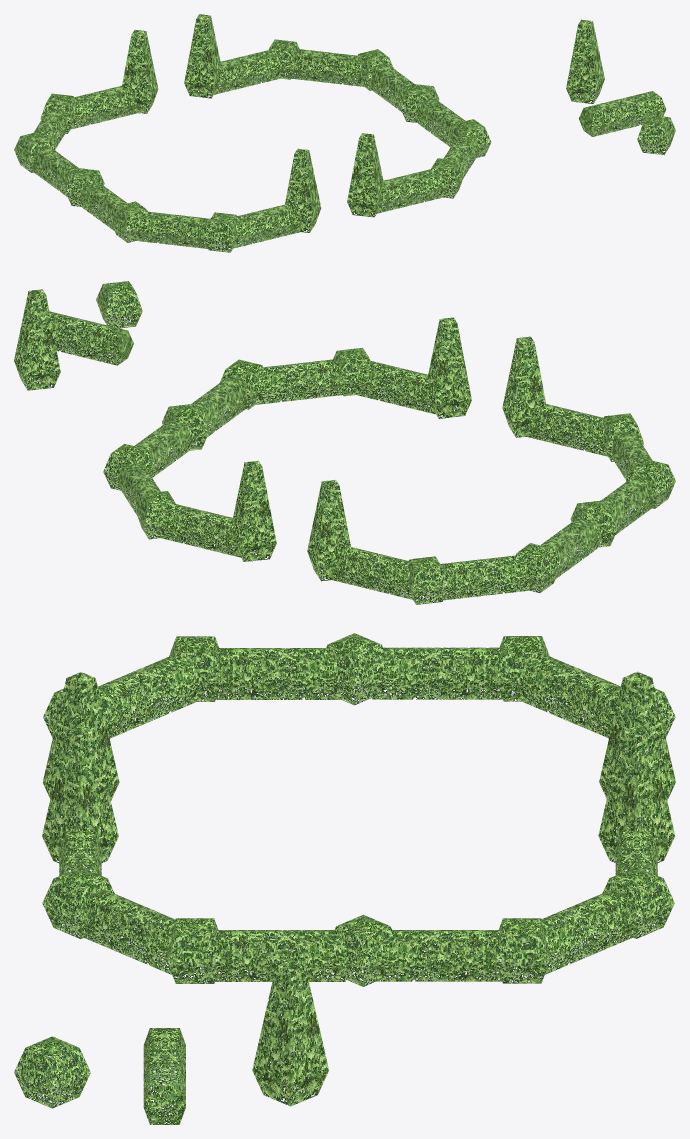
The model's file is psx_style_hedge_components_old.glb.
3 renders of one model, top to bottom at view 1: azimuth 30°, elevation 25°; view 2: azimuth 150°, elevation 25°; view 3: azimuth 270°, elevation 25°, orthographic. The views are drawn at different scales.
Parts seen in each view (by area): view 1: bush.002_32, bush.001_31, bush.004_46, bush.023_53, bush.019_49, bush.009_36, bush.003_33, bush.007_34, bush.013_40, bush.005_47, bush.024_54, bush.014_41 (+17 smaller); view 2: bush.001_31, bush.023_53, bush.004_46, bush.026_56, bush.016_43, bush.014_41, bush.002_32, bush.013_40, bush.003_33, bush.024_54, bush.005_47, bush.007_34 (+17 smaller); view 3: bush.001_31, bush.018_45, bush.004_46, bush.023_53, bush.011_38, bush.021_51, bush.028_58, bush.019_49, bush.026_56, bush.009_36, bush.016_43, bush.002_32 (+15 smaller).
Boxes of the visible parts, left/top/right/bottom form: bush.002_32: left=579, top=91, right=666, bottom=136; bush.001_31: left=566, top=19, right=604, bottom=103; bush.004_46: left=184, top=14, right=222, bottom=98; bush.023_53: left=347, top=133, right=385, bottom=217; bush.019_49: left=286, top=49, right=371, bottom=86; bush.009_36: left=131, top=211, right=217, bottom=248; bush.003_33: left=283, top=148, right=321, bottom=232; bush.007_34: left=219, top=203, right=302, bottom=248; bush.013_40: left=120, top=30, right=158, bottom=113; bush.005_47: left=202, top=49, right=286, bottom=94; bush.024_54: left=363, top=169, right=449, bottom=213; bush.014_41: left=57, top=85, right=141, bottom=129; bush.001_31: left=14, top=289, right=60, bottom=390; bush.023_53: left=426, top=317, right=471, bottom=418; bush.004_46: left=230, top=460, right=276, bottom=561; bush.026_56: left=246, top=359, right=348, bottom=404; bush.016_43: left=430, top=554, right=535, bottom=600; bush.014_41: left=329, top=545, right=429, bottom=600; bush.002_32: left=39, top=311, right=133, bottom=365; bush.013_40: left=307, top=480, right=352, bottom=581; bush.003_33: left=502, top=336, right=547, bottom=437; bush.024_54: left=349, top=360, right=452, bottom=413; bush.005_47: left=153, top=504, right=257, bottom=557; bush.007_34: left=521, top=403, right=624, bottom=456; bush.001_31: left=252, top=960, right=328, bottom=1106; bush.018_45: left=366, top=647, right=515, bottom=699; bush.004_46: left=598, top=725, right=674, bottom=868; bush.023_53: left=42, top=725, right=118, bottom=868; bush.011_38: left=203, top=648, right=352, bottom=699; bush.021_51: left=366, top=930, right=512, bottom=981; bush.028_58: left=204, top=930, right=351, bottom=981; bush.019_49: left=513, top=889, right=640, bottom=976; bush.026_56: left=76, top=890, right=203, bottom=977; bush.009_36: left=98, top=653, right=205, bottom=738; bush.016_43: left=513, top=653, right=620, bottom=737; bush.002_32: left=143, top=1028, right=185, bottom=1124.
Bounding box in the file's own units: 19.18 × 2.65 × 11.93.
Materials: 1 (1 with a texture image).
